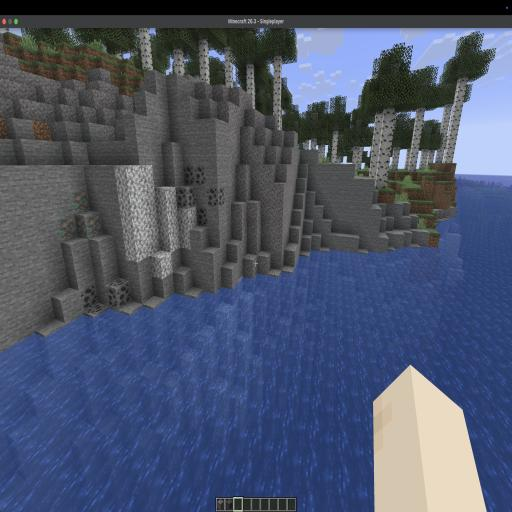coal ore: (184, 166, 226, 224), (82, 275, 129, 321), (176, 186, 196, 209)
